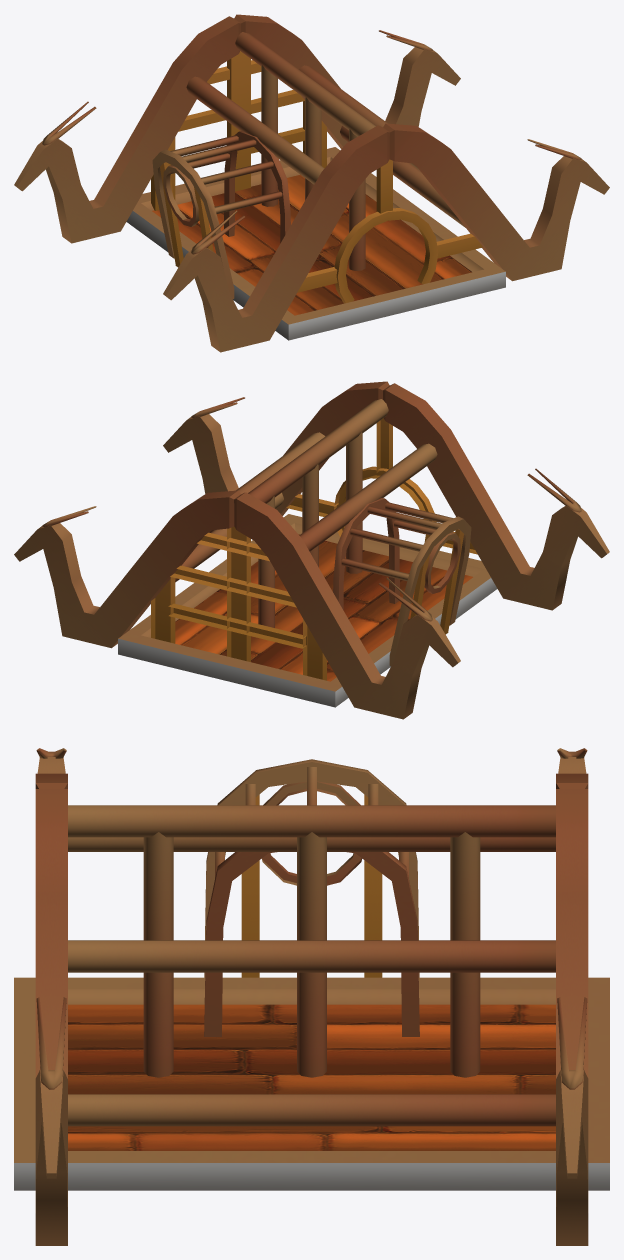
File: VikingHouse_04_XL.fbx
The picture shows the model from 3 angles, top to bottom: view 1: azimuth 30°, elevation 25°; view 2: azimuth 150°, elevation 25°; view 3: azimuth 270°, elevation 25°; orthographic projection. The views are drawn at different scales.
Parts seen in each view (by area): view 1: VikingHouse_04_XL; view 2: VikingHouse_04_XL; view 3: VikingHouse_04_XL.
Part boxes in pixels (box(x1,y1,x2,y2)): VikingHouse_04_XL: box(14, 14, 609, 352); VikingHouse_04_XL: box(14, 381, 609, 719); VikingHouse_04_XL: box(14, 748, 609, 1245).
Bounding box in the file's own units: 585 × 226 × 389.
Materials: 2 (2 with a texture image).
